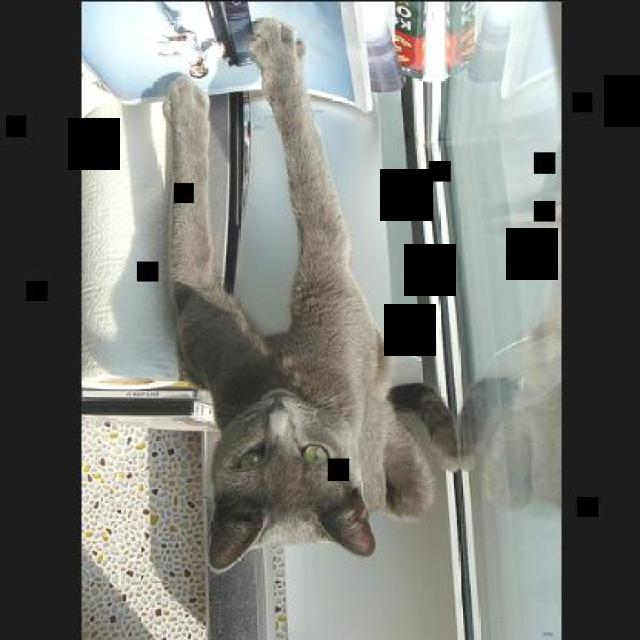unauthorized: (162, 15, 460, 574), (386, 314, 562, 514)
